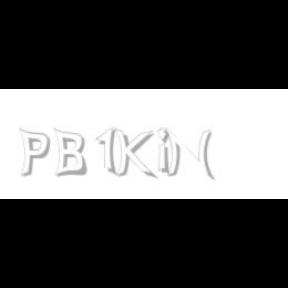1: (95, 128, 117, 176)
B: (53, 128, 87, 178)
K: (114, 128, 154, 180)
N: (164, 128, 212, 180)
P: (18, 128, 50, 178)
i: (157, 128, 173, 176)
